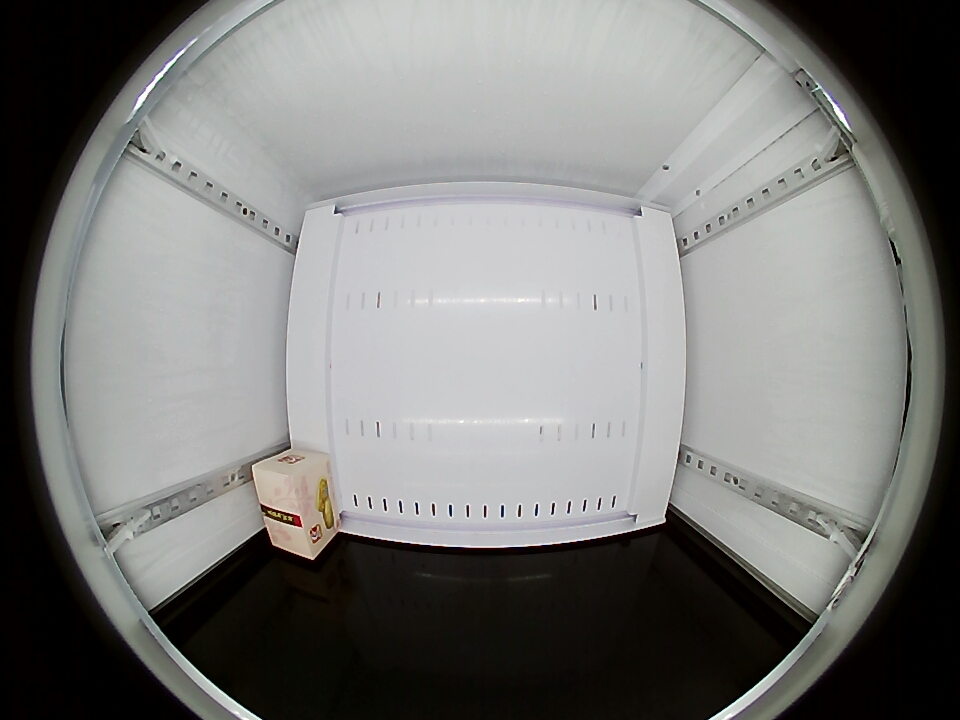rousongbing: (253, 458, 329, 561)
